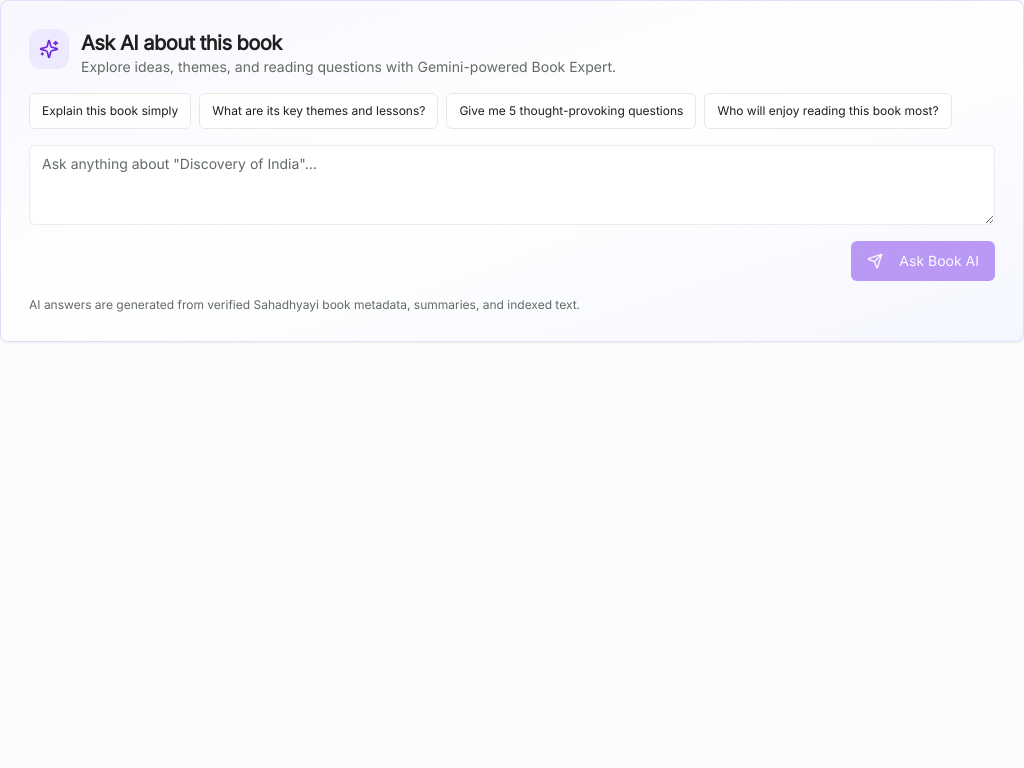
Test: BookAIReader Component › submits question and renders successful response with citations
Type "Where was this book written?" into the text box with placeholder "Ask anything about \"Discovery of India\"…" at coordinates (512, 185), box [29,145,995,225]
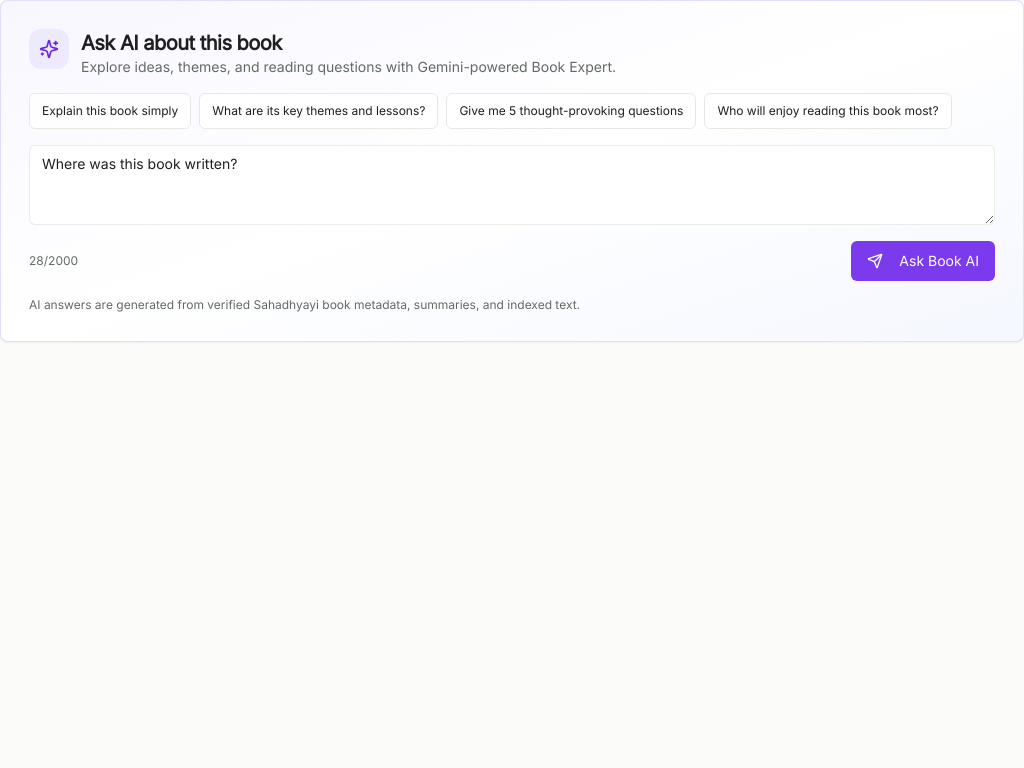
Expected: the button "Ask Book AI" is enabled
Click the button "Ask Book AI" at coordinates (923, 261), box [851,241,995,281]
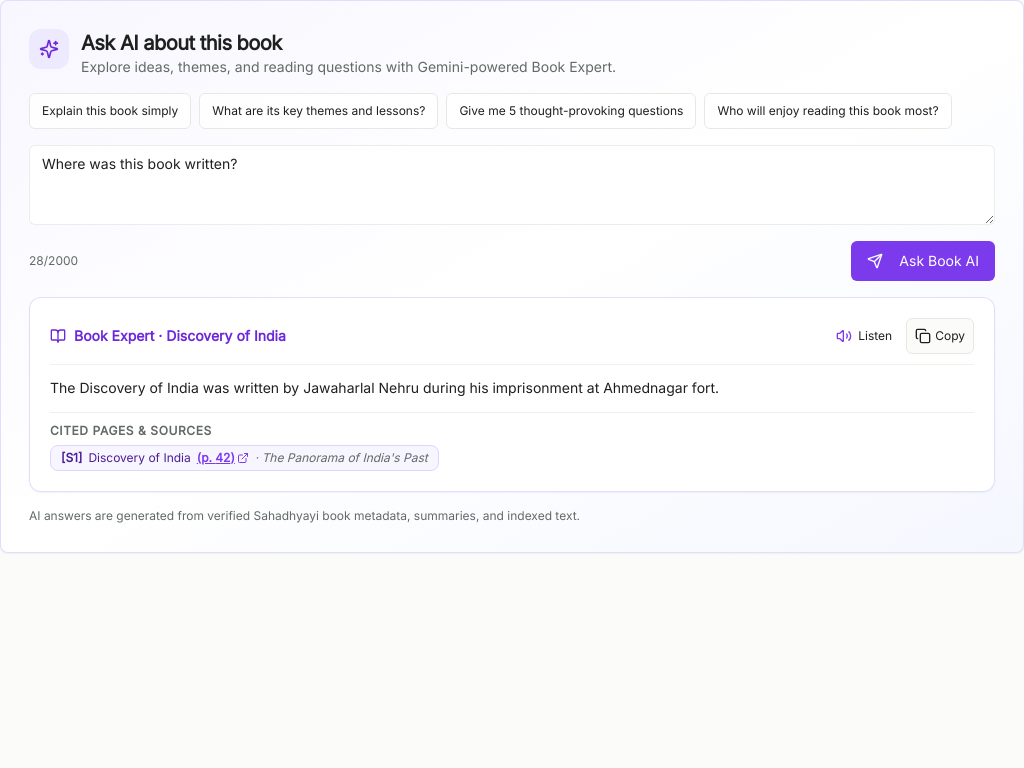
Expected: the text "written by Jawaharlal Nehru during his imprisonment" is shown, [50,379,719,396]
Expected: the text "[S1]" is shown, [61,450,82,466]
Expected: the link "(p. 42)" is shown, [197,450,249,466]
